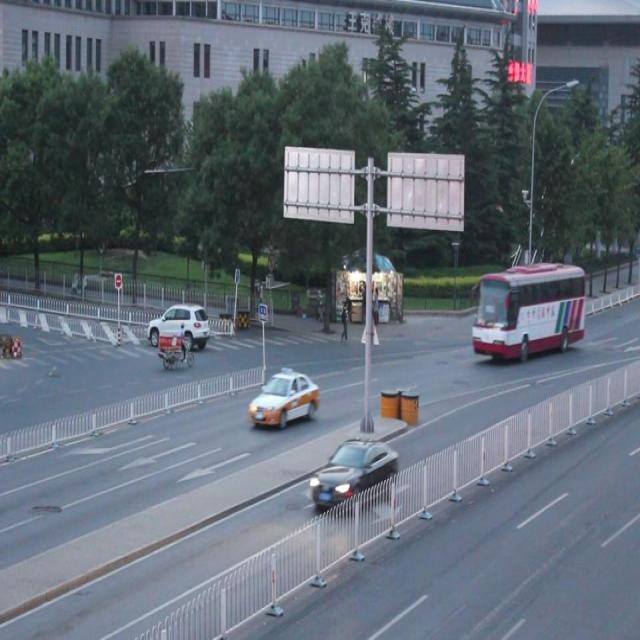car: (307, 435, 398, 508), (249, 368, 318, 426), (148, 307, 210, 357)
van: (473, 267, 584, 356)
